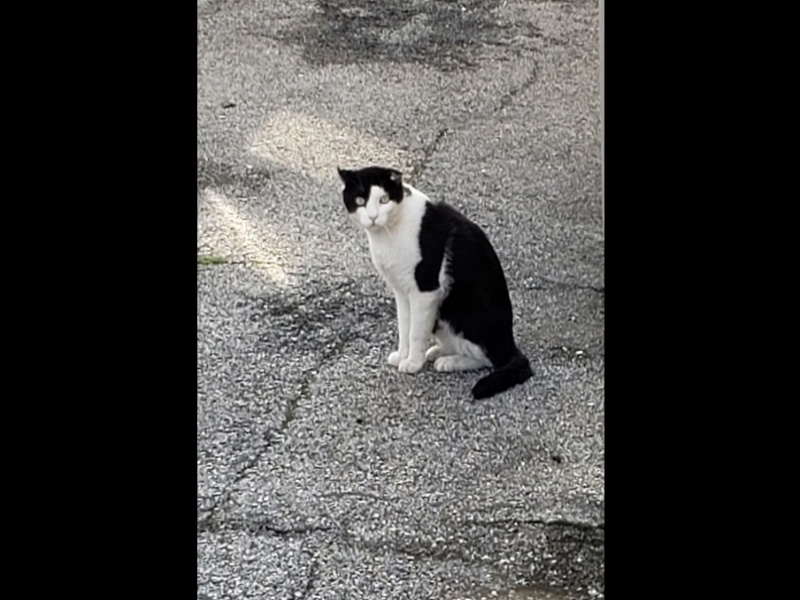cat: (332, 159, 538, 405)
